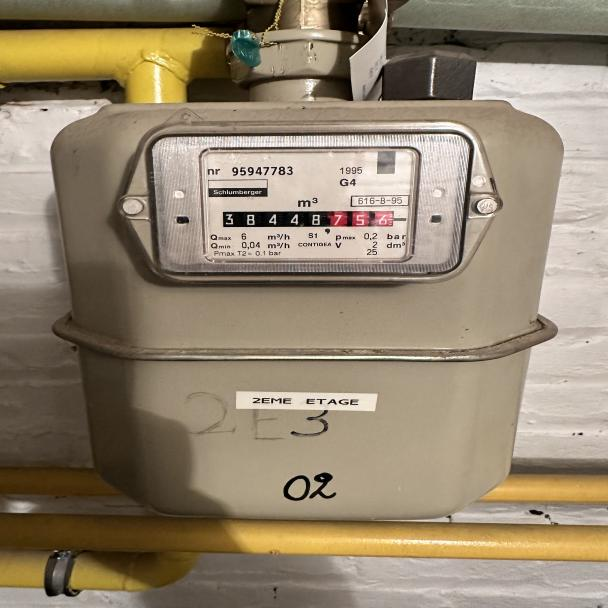3: (220, 211, 239, 229)
4: (263, 209, 286, 228), (286, 210, 305, 230)
5: (351, 210, 372, 228)
6: (370, 208, 394, 228)
7: (329, 210, 350, 228)
8: (305, 210, 330, 228), (241, 210, 262, 230)
cm: (330, 207, 400, 232)
counter: (217, 208, 330, 232)
